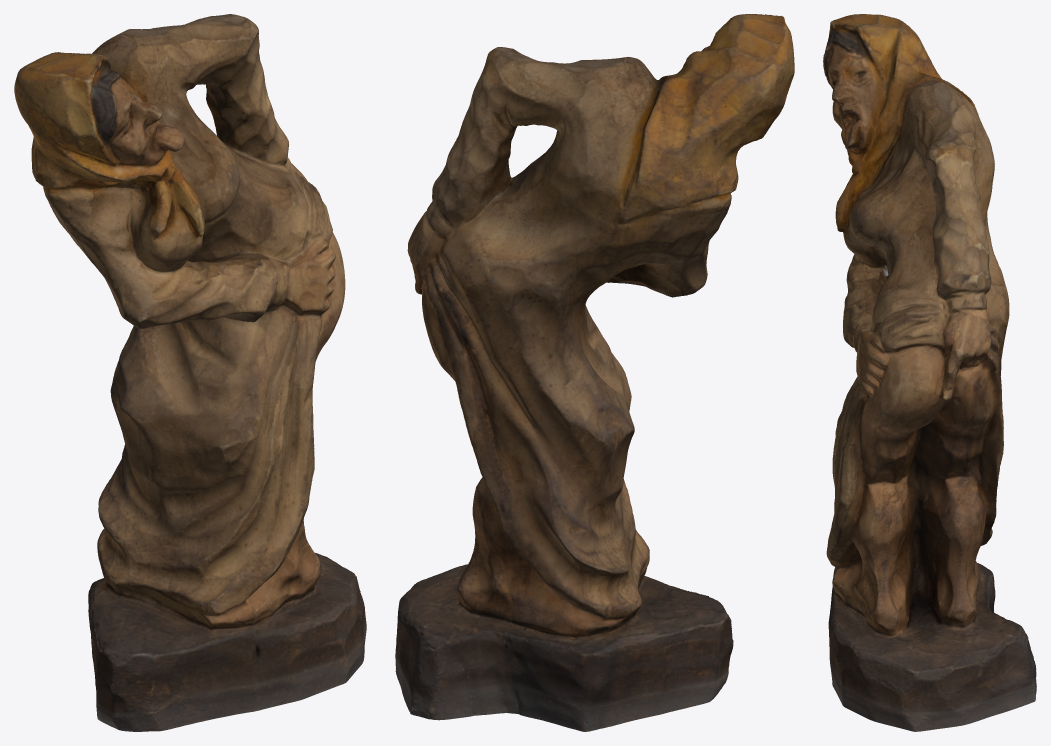
File: MPL_W_E_1483_lowpoly.glb
3 views of the same model, side by side, from view 1: azimuth 30°, elevation 25°; view 2: azimuth 150°, elevation 25°; view 3: azimuth 270°, elevation 25° (orthographic). The views are drawn at different scales.
Visible parts, largest first — view 1: MPL_W_E_1483_lowpoly; view 2: MPL_W_E_1483_lowpoly; view 3: MPL_W_E_1483_lowpoly.
Boxes of the visible parts, <box> form: MPL_W_E_1483_lowpoly: <box>14,14,366,731</box>; MPL_W_E_1483_lowpoly: <box>395,14,794,731</box>; MPL_W_E_1483_lowpoly: <box>823,14,1036,731</box>.
Size of the model in its own units: 0.1577 by 0.2843 by 0.0949.
1 material, 1 textured.
